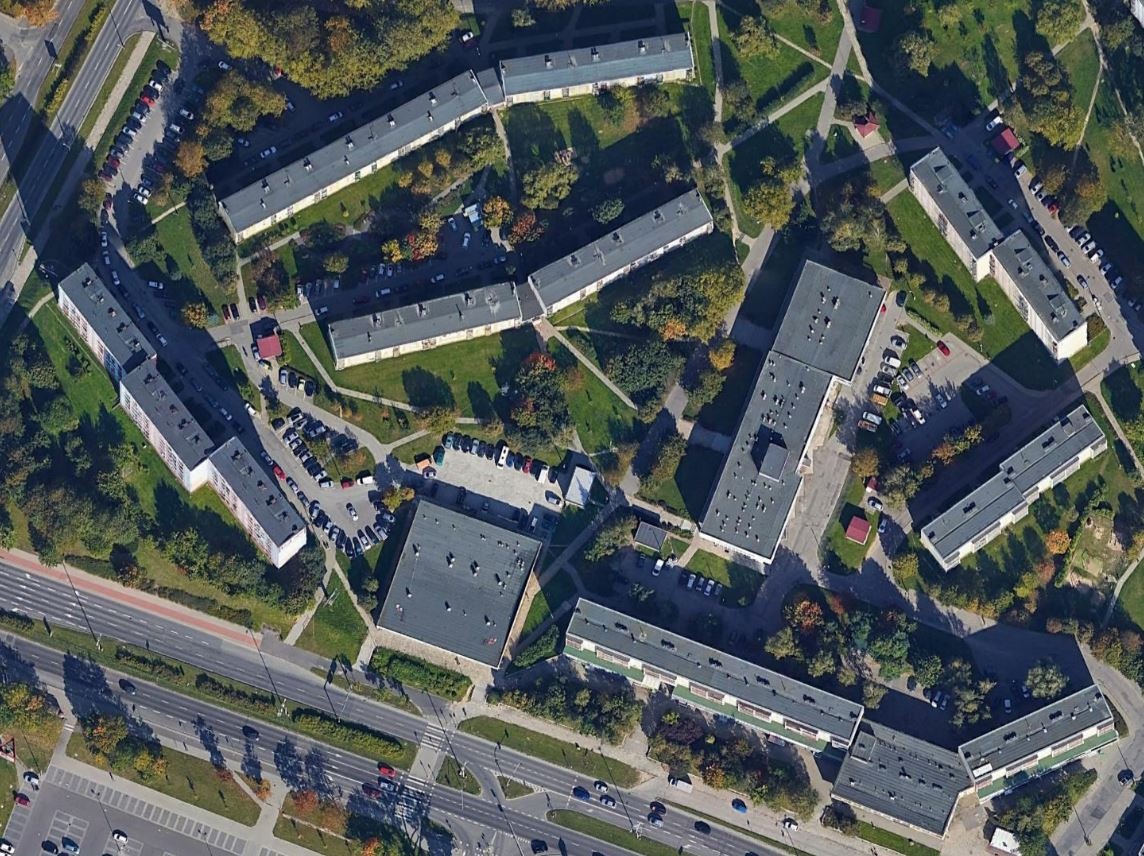block of flats: (552, 587, 1123, 844), (212, 22, 703, 246), (314, 180, 722, 390), (49, 257, 321, 569), (681, 248, 893, 568), (900, 136, 1101, 372), (913, 401, 1125, 575)
shopping_center: (365, 494, 552, 664)
